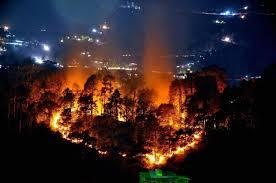fire: (143, 94, 205, 167)
